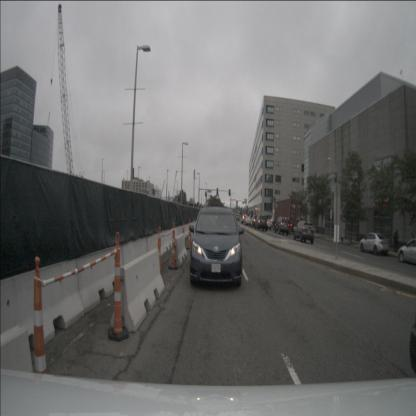human-pedestrian-adult: (393, 228, 399, 253)
movable_object-barrier: (1, 258, 86, 352), (110, 248, 166, 334), (75, 244, 125, 315), (121, 238, 151, 281), (168, 232, 188, 270), (146, 231, 165, 265), (162, 228, 174, 255), (171, 226, 183, 247), (181, 224, 189, 240)
movable_object-trafficcone: (26, 256, 54, 413), (108, 231, 129, 342), (154, 226, 165, 286), (168, 222, 178, 270), (186, 218, 193, 250)
vehicle-car: (190, 206, 242, 288), (360, 232, 390, 256), (397, 237, 416, 264), (293, 221, 314, 244), (274, 217, 290, 235), (254, 214, 268, 231), (250, 215, 259, 228), (263, 218, 272, 230), (244, 216, 252, 225), (240, 215, 248, 224)
vehicle-truck: (270, 198, 301, 233)
